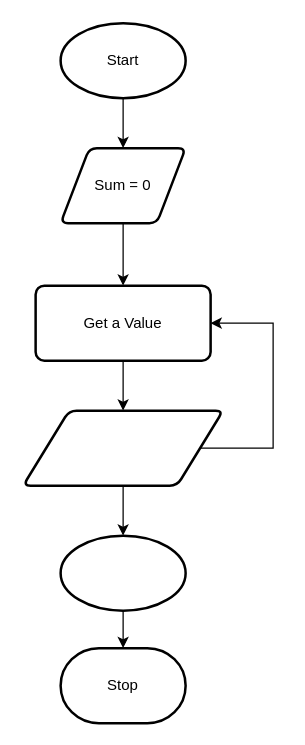
The diagram is 305 pixels wide and 745 high, and some of its shapes have lost their labels. The shapes that lost their labels are listed below. From the top down, each one's centre as x and y in pixels, then its label:
(x=122, y=447): Sum = sum + value
(x=122, y=572): Output the sum
